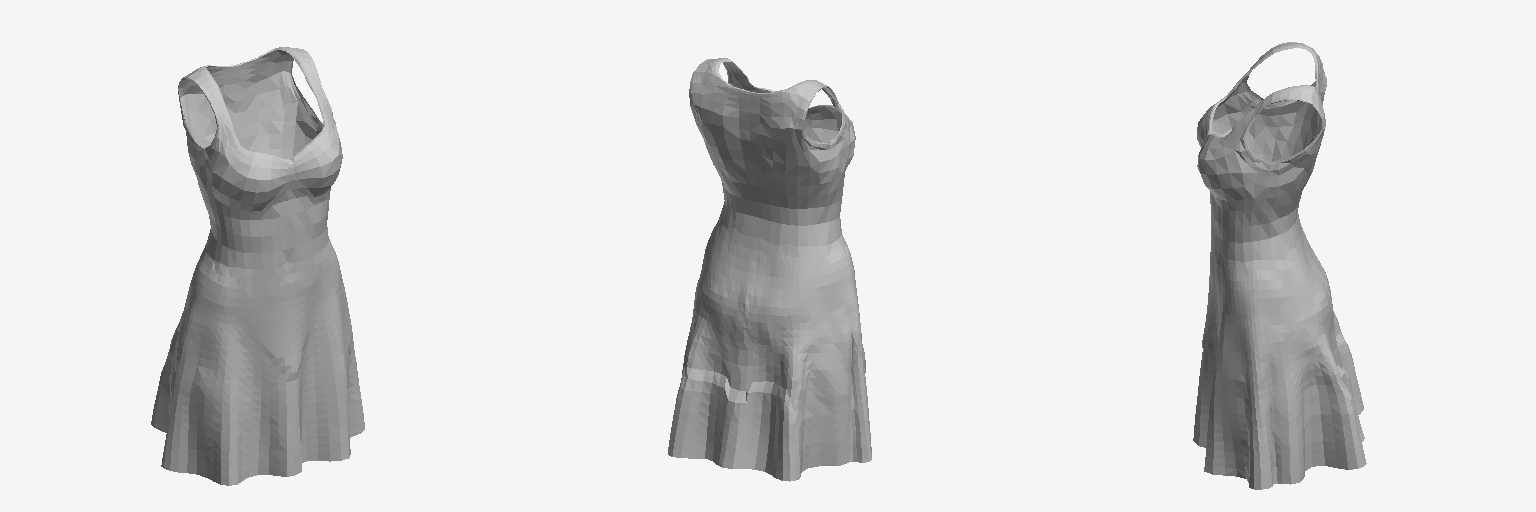
File: womanSuit11.obj
3 views of the same model, side by side, from view 1: azimuth 30°, elevation 25°; view 2: azimuth 150°, elevation 25°; view 3: azimuth 270°, elevation 25° (orthographic).
Size of the model in its own units: 47.53 by 87.97 by 36.33.